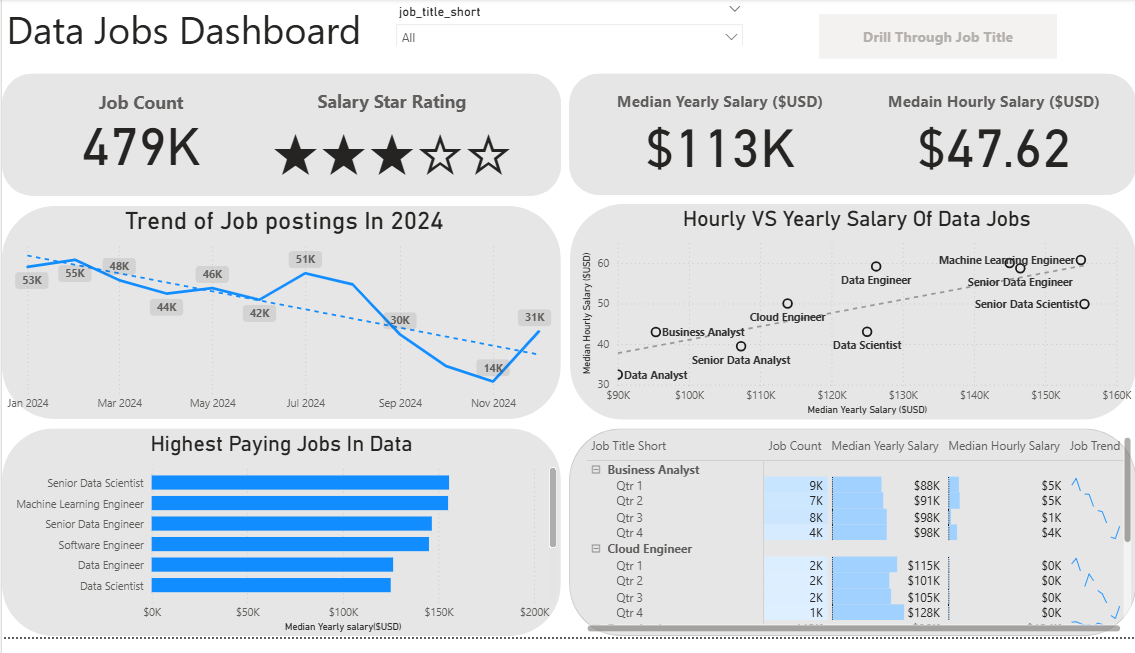

The page's visual inventory and layout, read from the dashboard file:
{"tool":"powerbi","page":{"name":"Data Jobs Dashboard","canvas":[1280,720],"ordinal":0},"visuals":[{"type":"group","id":"g1","title":"Background","box":[0,84.3,1280,634.9],"z":0},{"type":"shape","box":[0,84.3,631,138.2],"z":0,"group":"g1"},{"type":"textbox","box":[0,0,440.2,82.7],"z":1000},{"type":"shape","box":[640,84.6,640,137.4],"z":1000,"group":"g1"},{"type":"slicer","fields":{"Values":["job_postings_flat.job_title_short"]},"box":[435.5,0,410.5,53.1],"z":2000},{"type":"shape","box":[0,233.7,630.6,240.4],"z":2000,"group":"g1"},{"type":"cardVisual","fields":{"Data":["Median(job_postings_flat.salary_year_avg)"]},"box":[655.5,84.8,311.4,135.3],"z":3000},{"type":"shape","box":[641.6,232.1,638.5,243.5],"z":3000,"group":"g1"},{"type":"cardVisual","fields":{"Data":["CountNonNull(job_postings_flat.job_title_short)"]},"box":[0,83.2,314.7,137],"z":4000},{"type":"shape","box":[0,485,630.6,234.2],"z":4000,"group":"g1"},{"type":"cardVisual","fields":{"Data":["Median(job_postings_flat.salary_hour_avg)"]},"box":[960.4,84.8,319.6,137],"z":5000},{"type":"shape","box":[640,485,640,234.2],"z":5000,"group":"g1"},{"type":"barChart","title":"Highest Paying Jobs In Data","fields":{"Y":["Median(job_postings_flat.salary_year_avg)"],"Category":["job_postings_flat.job_title_short"]},"box":[0,488.6,630.6,231],"z":6000},{"type":"lineChart","title":"Trend of Job postings In 2024","fields":{"Category":["job_postings_flat.job_posted_date.Variation.Date Hierarchy.Year","job_postings_flat.job_posted_date.Variation.Date Hierarchy.Quarter","job_postings_flat.job_posted_date.Variation.Date Hierarchy.Month","job_postings_flat.job_posted_date.Variation.Date Hierarchy.Day"],"Y":["CountNonNull(job_postings_flat.job_title_short)"]},"box":[0,234.2,636.9,240.4],"z":7000},{"type":"scatterChart","title":"Hourly VS Yearly Salary Of Data Jobs","fields":{"Y":["job_postings_flat.salary_hour_avg"],"X":["Median(job_postings_flat.salary_year_avg)"],"Series":["job_postings_flat.job_title_short"]},"box":[649.4,234.2,630.6,240.4],"z":8000},{"type":"pivotTable","fields":{"Rows":["job_postings_flat.job_title_short","job_postings_flat.job_posted_date.Variation.Date Hierarchy.Quarter"],"Values":["CountNonNull(job_postings_flat.job_title)","Median(job_postings_flat.salary_year_avg)","Sum(job_postings_flat.salary_hour_avg)","SparklineData(CountNonNull(job_postings_flat.job_title_short)_[job_postings_flat.job_posted_date.Variation.Date Hierarch"]},"box":[655,488.8,625,230.4],"z":9000},{"type":"cardVisual","fields":{"Data":["job_postings_flat.Salary Star Rating"]},"box":[282.1,84.8,316.3,138.6],"z":10000},{"type":"actionButton","box":[922.6,17.2,268.5,50],"z":11000}]}

Visuals, with their boxes in screenshot pixels (x1, y1, x2, y2), scaled from the page's 1280x720 canvas onto the 1135x653 screenshot:
"Background" group: (left=0, top=76, right=1134, bottom=652)
shape: (left=0, top=76, right=560, bottom=202)
textbox: (left=0, top=0, right=390, bottom=75)
shape: (left=568, top=77, right=1134, bottom=201)
slicer - job_postings_flat.job_title_short: (left=386, top=0, right=750, bottom=48)
shape: (left=0, top=212, right=559, bottom=430)
cardVisual - Median(job_postings_flat.salary_year_avg): (left=581, top=77, right=857, bottom=200)
shape: (left=569, top=211, right=1134, bottom=431)
cardVisual - CountNonNull(job_postings_flat.job_title_short): (left=0, top=75, right=279, bottom=200)
shape: (left=0, top=440, right=559, bottom=652)
cardVisual - Median(job_postings_flat.salary_hour_avg): (left=852, top=77, right=1134, bottom=201)
shape: (left=568, top=440, right=1134, bottom=652)
"Highest Paying Jobs In Data" barChart: (left=0, top=443, right=559, bottom=652)
"Trend of Job postings In 2024" lineChart: (left=0, top=212, right=565, bottom=430)
"Hourly VS Yearly Salary Of Data Jobs" scatterChart: (left=576, top=212, right=1134, bottom=430)
pivotTable - job_postings_flat.job_title_short x job_postings_flat.job_posted_date.Variation.Date Hierarchy.Quarter: (left=581, top=443, right=1134, bottom=652)
cardVisual - job_postings_flat.Salary Star Rating: (left=250, top=77, right=531, bottom=203)
actionButton: (left=818, top=16, right=1056, bottom=61)
